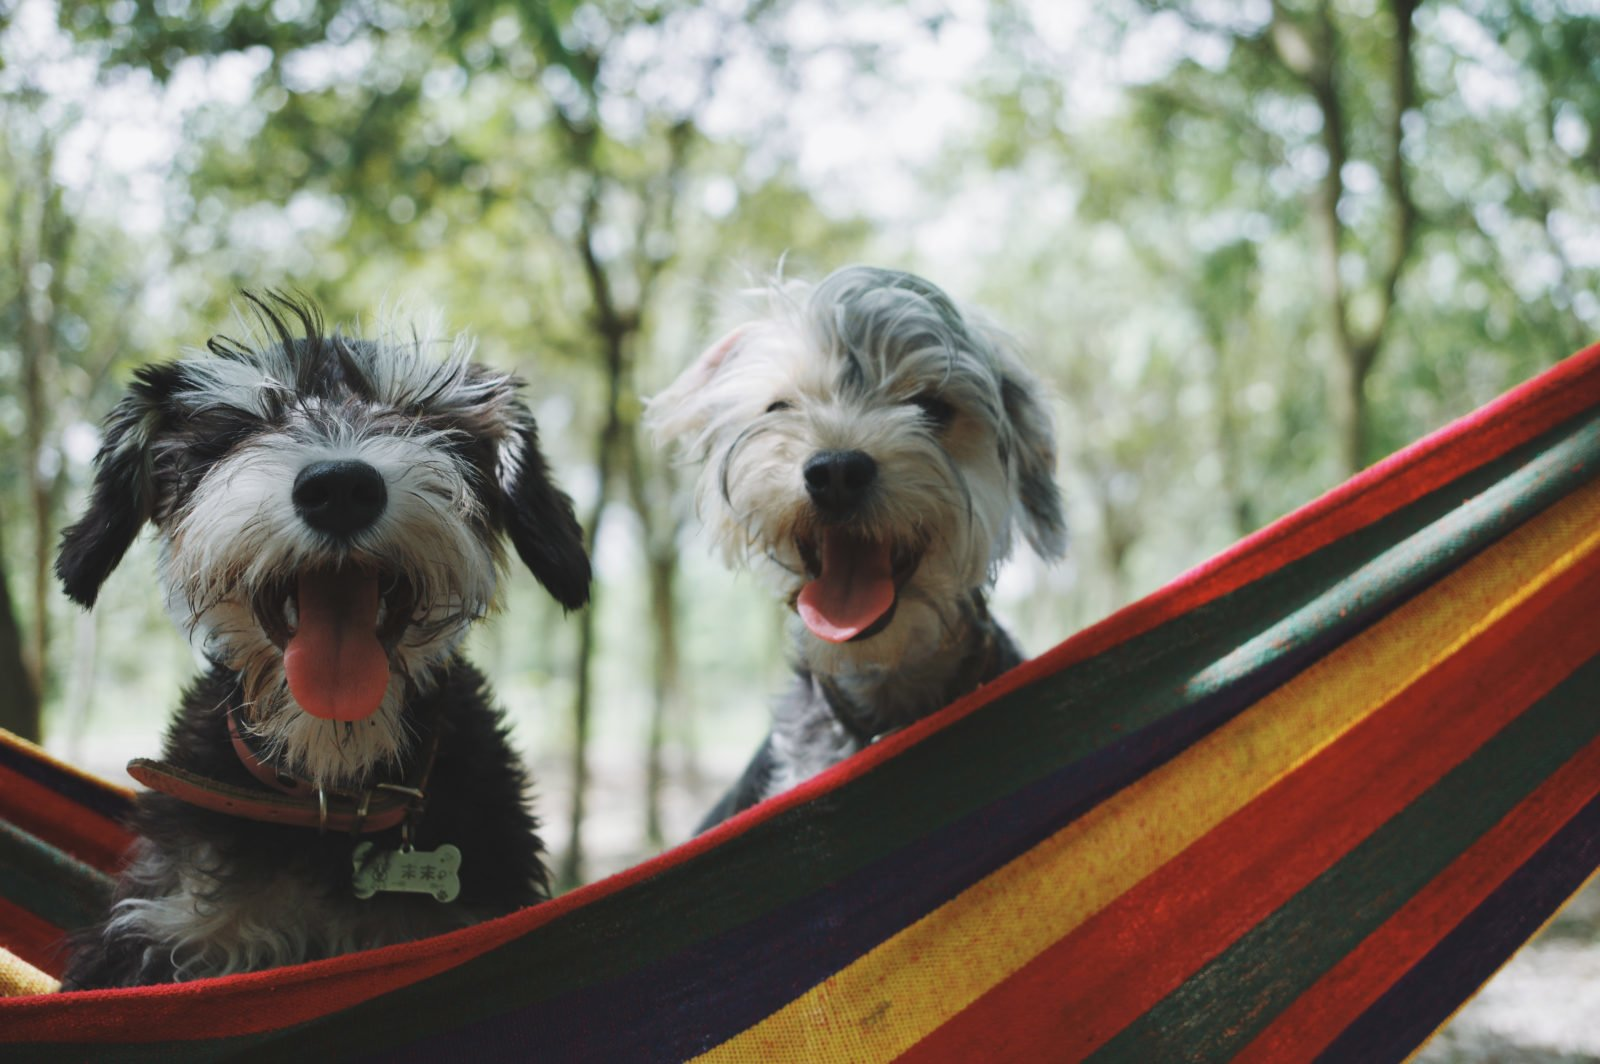dog: (61, 303, 611, 977), (630, 270, 1126, 835)
